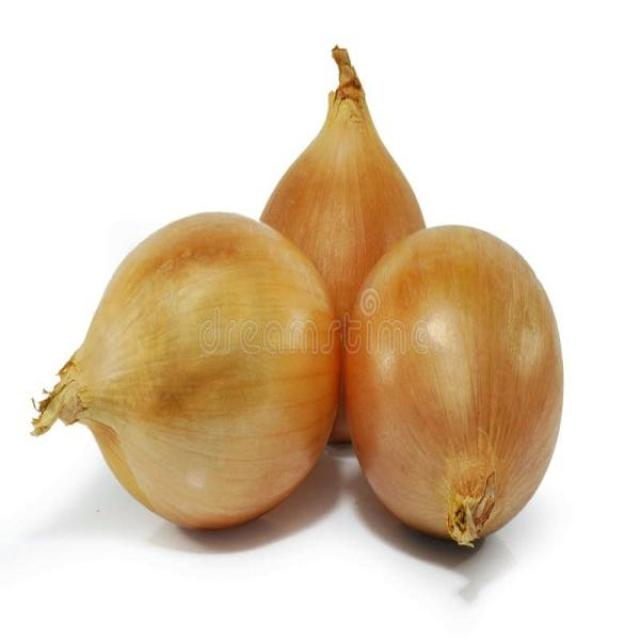Onion: (31, 213, 345, 533), (342, 225, 565, 549), (259, 46, 428, 371)
